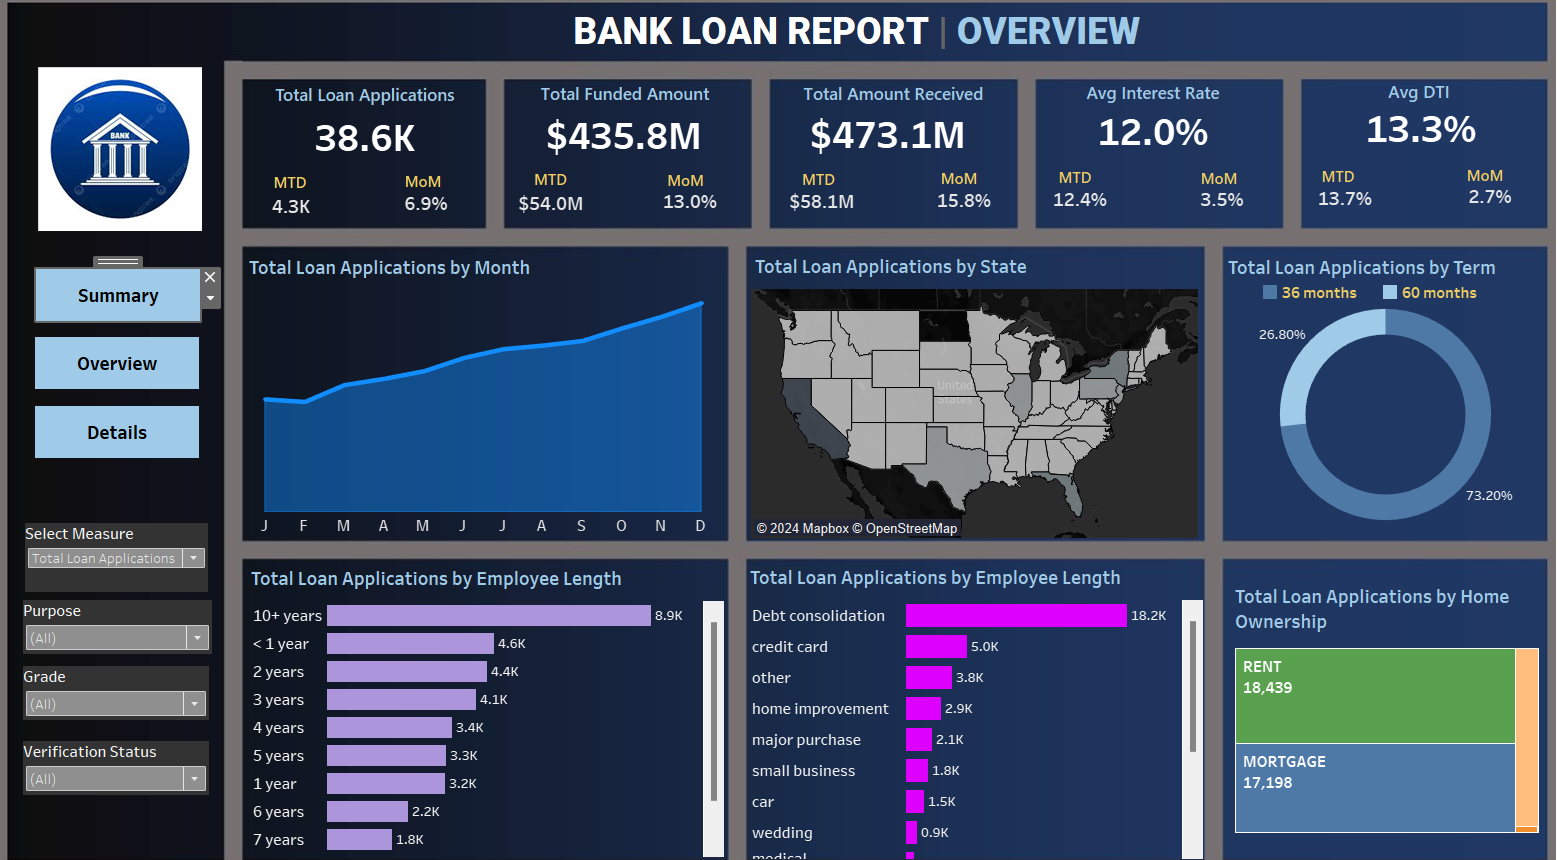

Layout of this report page (visuals, bound fields, positions):
{"tool":"tableau","page":{"name":"OVERVIEW","canvas":[1600,900],"ordinal":1},"visuals":[{"type":"image","param":"Image/Tableau Background 2.jpg","box":[8,8,1584,884]},{"type":"text","box":[592,25,582,50]},{"type":"image","param":"Image/bank.jpeg","box":[53,86,178,164]},{"type":"text","box":[1391,95,100,30]},{"type":"text","box":[1105,96,140,30]},{"type":"text","box":[559,97,176,30]},{"type":"text","box":[820,97,191,30]},{"type":"worksheet","title":"Total Loan Applications","mark":"Automatic","box":[267,98,240,75]},{"type":"worksheet","title":"Avg DTI","mark":"Automatic","box":[1380,100,127,72]},{"type":"worksheet","title":"Avg Interest Rate","mark":"Automatic","box":[1110,103,129,72]},{"type":"worksheet","title":"Total Funded Amount","mark":"Automatic","box":[561,104,169,77]},{"type":"worksheet","title":"Total Amount Received","mark":"Automatic","box":[825,104,169,75]},{"type":"text","box":[957,179,48,36]},{"type":"text","box":[1481,179,52,30]},{"type":"text","box":[1335,180,50,30]},{"type":"text","box":[547,181,51,33]},{"type":"text","box":[1209,182,64,30]},{"type":"text","box":[421,183,48,34]},{"type":"text","box":[284,184,56,34]},{"type":"text","box":[680,184,55,30]},{"type":"text","box":[817,184,47,28]},{"type":"text","box":[1071,184,52,23]},{"type":"worksheet","title":"MoM  Loan Applications","mark":"Automatic","box":[422,195,51,54]},{"type":"worksheet","title":"MoM Avg DTI","mark":"Automatic","box":[1483,195,57,40]},{"type":"worksheet","title":"MTD Total Loan Applications","mark":"Automatic","box":[286,196,54,58]},{"type":"worksheet","title":"MTD Avg DTI","mark":"Automatic","box":[1335,198,64,37]},{"type":"worksheet","title":"MTD Avg Interest Rate","mark":"Automatic","box":[1070,199,64,38]},{"type":"worksheet","title":"MoM Avg Interest Rate","mark":"Automatic","box":[1215,200,57,36]},{"type":"worksheet","title":"MoM  Total Funded Amount","mark":"Automatic","box":[680,201,64,37]},{"type":"worksheet","title":"MTD Total  Amount Received","mark":"Automatic","box":[802,201,83,37]},{"type":"worksheet","title":"MoM  Total  Amount Received","mark":"Automatic","box":[951,201,70,35]},{"type":"worksheet","title":"MTD Total Funded Amount","mark":"Automatic","box":[530,205,85,33]},{"type":"worksheet","title":"State","mark":"Multipolygon","box":[773,268,447,289]},{"type":"worksheet","title":"Month","mark":"Area","rows":["Calculation_473722423923838984","Calculation_473722423923838984"],"cols":["issue_date"],"box":[267,269,476,287]},{"type":"worksheet","title":"Term","mark":"Pie","rows":["Calculation_790100298787454977","Calculation_790100298787581955"],"box":[1246,269,323,289]},{"type":"dashboard-object","box":[58,288,164,52]},{"type":"legend","title":"Term","param":"[federated.0wwyalk12wt8di13ai1mo1gs98zu].[none:term:nk]","box":[1282,301,250,30]},{"type":"dashboard-object","box":[57,356,164,52]},{"type":"dashboard-object","box":[57,425,164,52]},{"type":"parameter","param":"[Parameters].[Parameter 1]","box":[47,542,183,69]},{"type":"worksheet","title":"Puropse","mark":"Automatic","rows":["purpose"],"cols":["Calculation_473722423923838984"],"box":[768,579,457,299]},{"type":"worksheet","title":"Emp Length","mark":"Automatic","rows":["emp_length"],"cols":["Calculation_473722423923838984"],"box":[269,580,477,296]},{"type":"worksheet","title":"Home Ownership","mark":"Automatic","box":[1253,598,311,276]},{"type":"filter","title":"Avg DTI","param":"[federated.0wwyalk12wt8di13ai1mo1gs98zu].[none:purpose:nk]","box":[45,619,189,54]},{"type":"filter","title":"Avg DTI","param":"[federated.0wwyalk12wt8di13ai1mo1gs98zu].[none:grade:nk]","box":[45,685,186,54]},{"type":"filter","title":"Avg DTI","param":"[federated.0wwyalk12wt8di13ai1mo1gs98zu].[none:verification_status:nk]","box":[45,760,186,54]}]}

Visuals, with their boxes in screenshot pixels (x1, y1, x2, y2), scaled from the page's 1600x900 canvas onto the 1558x860 screenshot:
image: pyautogui.locateOnScreen(8, 8, 1550, 852)
text: pyautogui.locateOnScreen(576, 24, 1143, 72)
image: pyautogui.locateOnScreen(52, 82, 225, 239)
text: pyautogui.locateOnScreen(1354, 91, 1452, 119)
text: pyautogui.locateOnScreen(1076, 92, 1212, 120)
text: pyautogui.locateOnScreen(544, 93, 716, 121)
text: pyautogui.locateOnScreen(798, 93, 984, 121)
"Total Loan Applications" worksheet: pyautogui.locateOnScreen(260, 94, 494, 165)
"Avg DTI" worksheet: pyautogui.locateOnScreen(1344, 96, 1467, 164)
"Avg Interest Rate" worksheet: pyautogui.locateOnScreen(1081, 98, 1206, 167)
"Total Funded Amount" worksheet: pyautogui.locateOnScreen(546, 99, 711, 173)
"Total Amount Received" worksheet: pyautogui.locateOnScreen(803, 99, 968, 171)
text: pyautogui.locateOnScreen(932, 171, 979, 205)
text: pyautogui.locateOnScreen(1442, 171, 1493, 200)
text: pyautogui.locateOnScreen(1300, 172, 1349, 201)
text: pyautogui.locateOnScreen(533, 173, 582, 204)
text: pyautogui.locateOnScreen(1177, 174, 1240, 203)
text: pyautogui.locateOnScreen(410, 175, 457, 207)
text: pyautogui.locateOnScreen(277, 176, 331, 208)
text: pyautogui.locateOnScreen(662, 176, 716, 204)
text: pyautogui.locateOnScreen(796, 176, 841, 203)
text: pyautogui.locateOnScreen(1043, 176, 1094, 198)
"MoM  Loan Applications" worksheet: pyautogui.locateOnScreen(411, 186, 461, 238)
"MoM Avg DTI" worksheet: pyautogui.locateOnScreen(1444, 186, 1500, 225)
"MTD Total Loan Applications" worksheet: pyautogui.locateOnScreen(278, 187, 331, 243)
"MTD Avg DTI" worksheet: pyautogui.locateOnScreen(1300, 189, 1362, 225)
"MTD Avg Interest Rate" worksheet: pyautogui.locateOnScreen(1042, 190, 1104, 226)
"MoM Avg Interest Rate" worksheet: pyautogui.locateOnScreen(1183, 191, 1239, 226)
"MoM  Total Funded Amount" worksheet: pyautogui.locateOnScreen(662, 192, 724, 227)
"MTD Total  Amount Received" worksheet: pyautogui.locateOnScreen(781, 192, 862, 227)
"MoM  Total  Amount Received" worksheet: pyautogui.locateOnScreen(926, 192, 994, 226)
"MTD Total Funded Amount" worksheet: pyautogui.locateOnScreen(516, 196, 599, 227)
"State" worksheet (Multipolygon marks): pyautogui.locateOnScreen(753, 256, 1188, 532)
"Month" worksheet (Area marks): pyautogui.locateOnScreen(260, 257, 723, 531)
"Term" worksheet (Pie marks): pyautogui.locateOnScreen(1213, 257, 1528, 533)
dashboard-object: pyautogui.locateOnScreen(56, 275, 216, 325)
"Term" legend: pyautogui.locateOnScreen(1248, 288, 1492, 316)
dashboard-object: pyautogui.locateOnScreen(56, 340, 215, 390)
dashboard-object: pyautogui.locateOnScreen(56, 406, 215, 456)
parameter: pyautogui.locateOnScreen(46, 518, 224, 584)
"Puropse" worksheet: pyautogui.locateOnScreen(748, 553, 1193, 839)
"Emp Length" worksheet: pyautogui.locateOnScreen(262, 554, 726, 837)
"Home Ownership" worksheet: pyautogui.locateOnScreen(1220, 571, 1523, 835)
"Avg DTI" filter: pyautogui.locateOnScreen(44, 591, 228, 643)
"Avg DTI" filter: pyautogui.locateOnScreen(44, 655, 225, 706)
"Avg DTI" filter: pyautogui.locateOnScreen(44, 726, 225, 778)
